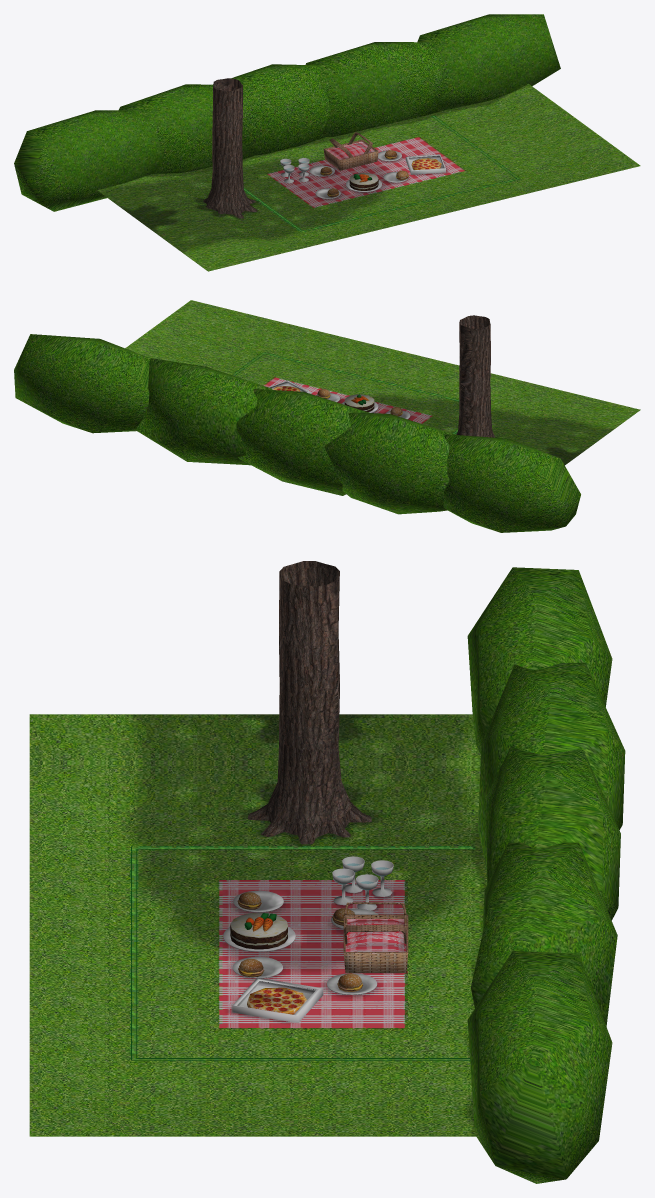
File: picnic.glb
3 views of the same model, one above another, from view 1: azimuth 30°, elevation 25°; view 2: azimuth 150°, elevation 25°; view 3: azimuth 270°, elevation 25° (orthographic). The views are drawn at different scales.
Visible parts, largest first — view 1: mapPicnic_0, mapPicnicTransparent_1; view 2: mapPicnic_0; view 3: mapPicnic_0, mapPicnicTransparent_1.
Boxes of the visible parts, x1,y1,x2,y2 form: mapPicnic_0: (14,14,640,271); mapPicnicTransparent_1: (280,158,309,183); mapPicnic_0: (14,300,640,532); mapPicnic_0: (29,561,625,1183); mapPicnicTransparent_1: (332,856,393,910).
Size of the model in its own units: 54.26 by 13.58 by 26.3.
Materials: 1 (1 with a texture image).
